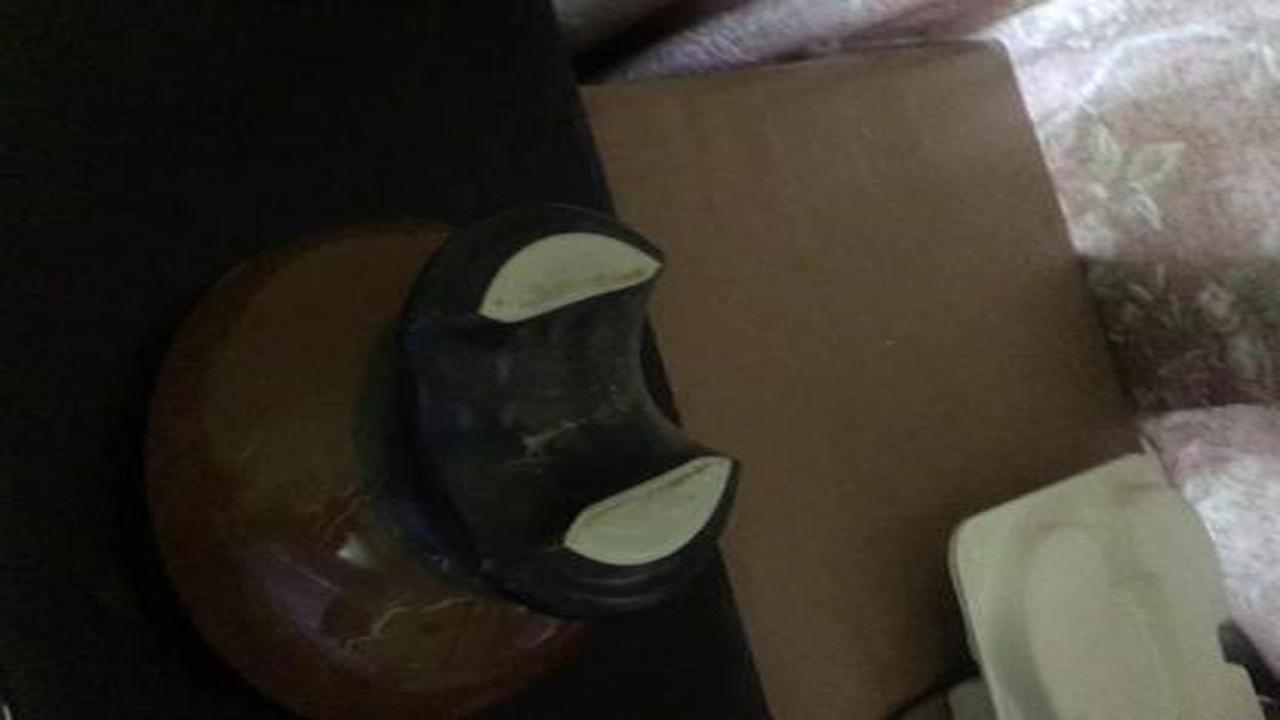insulator_pin: (117, 187, 761, 720)
